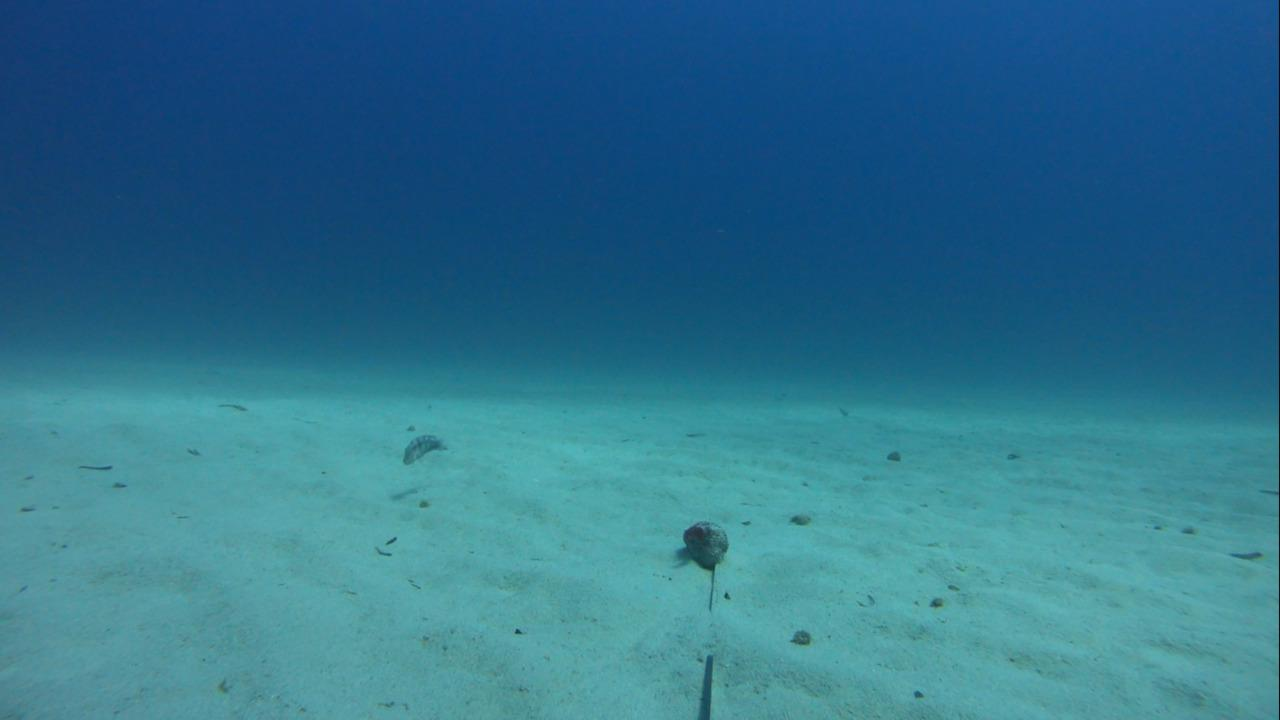raor: (398, 430, 446, 467)
